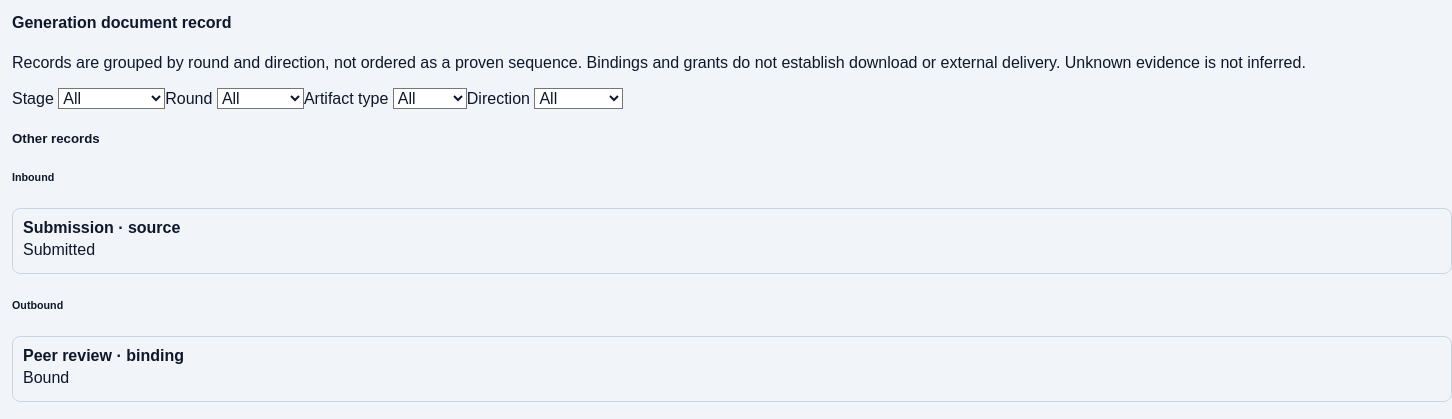
Test: retains the selected filter across a refresh of the same manuscript
Later steps or results of the test are not shown.
Step 1. Select "Peer review" in the dropdown named "Filter stage" → (112, 98), box left=58, top=88, right=165, bottom=108
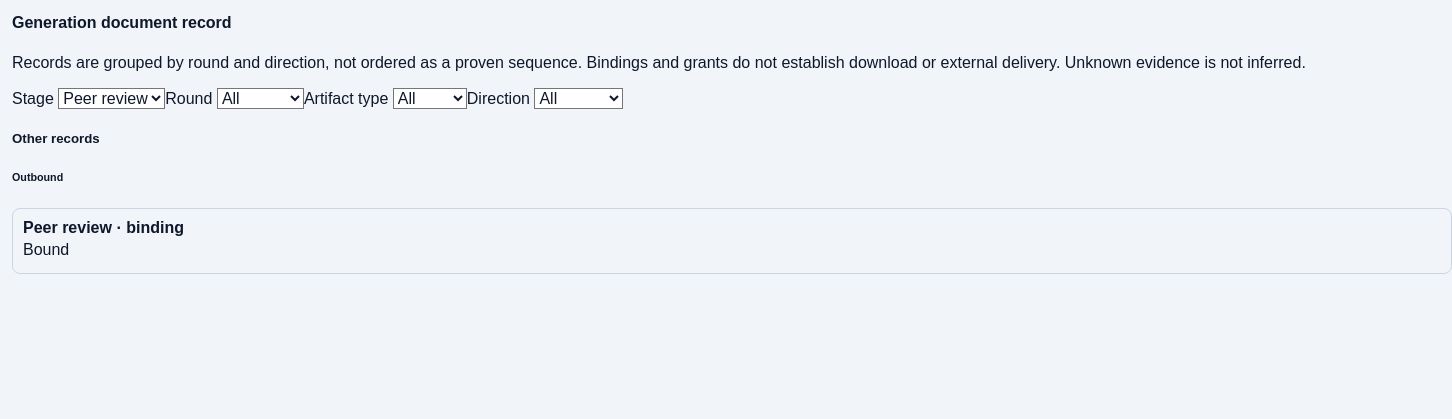
Check: the text "Submitted" is gone
